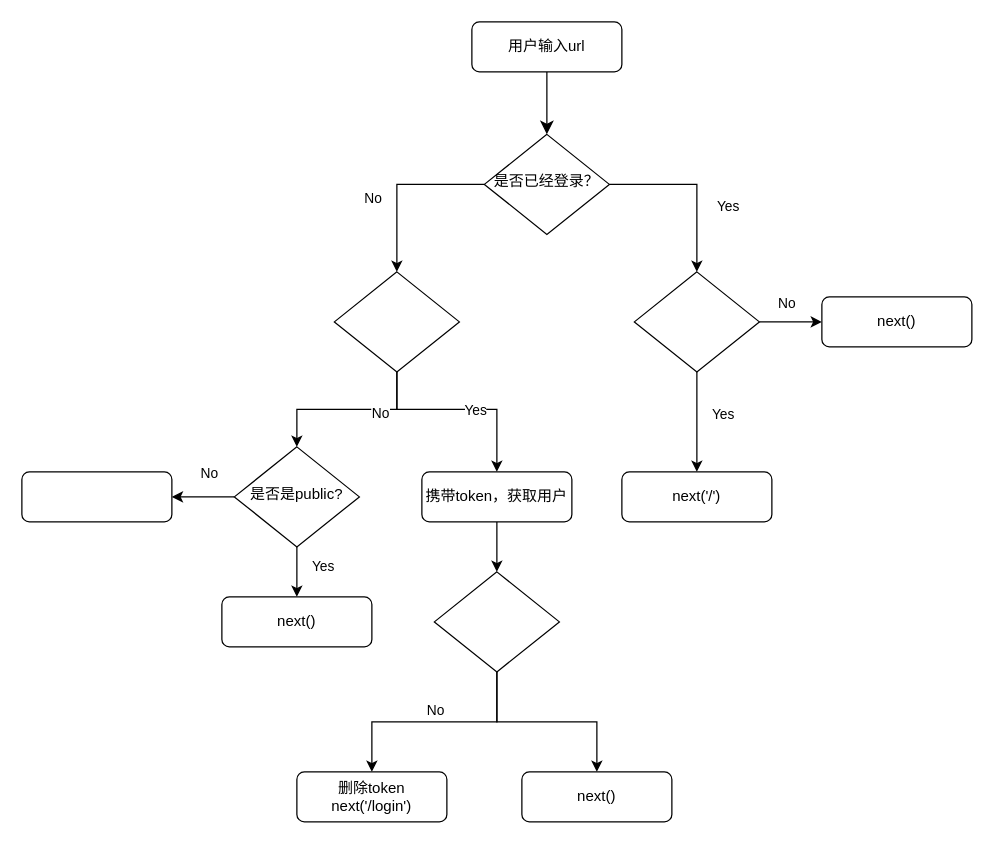
Some shapes in this 994 by 844 pixel diagram are drawn without their labels. The centre of each missing label's shape, as x and y in pixels:
next('/login'): pixel 96 496
是否有token？: pixel 396 321
是否获取成功？: pixel 496 621
是否需要跳转？: pixel 696 321
